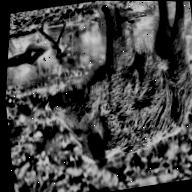boar: (12, 0, 192, 188)
